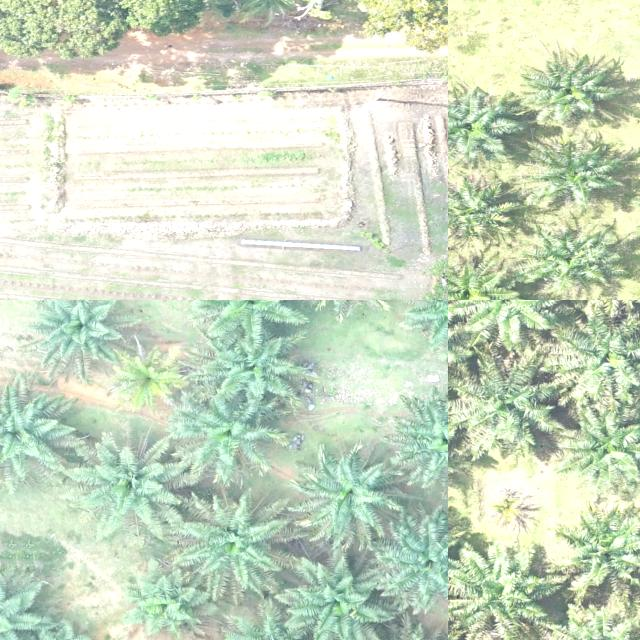Ganoderma: (112, 350, 178, 404)
